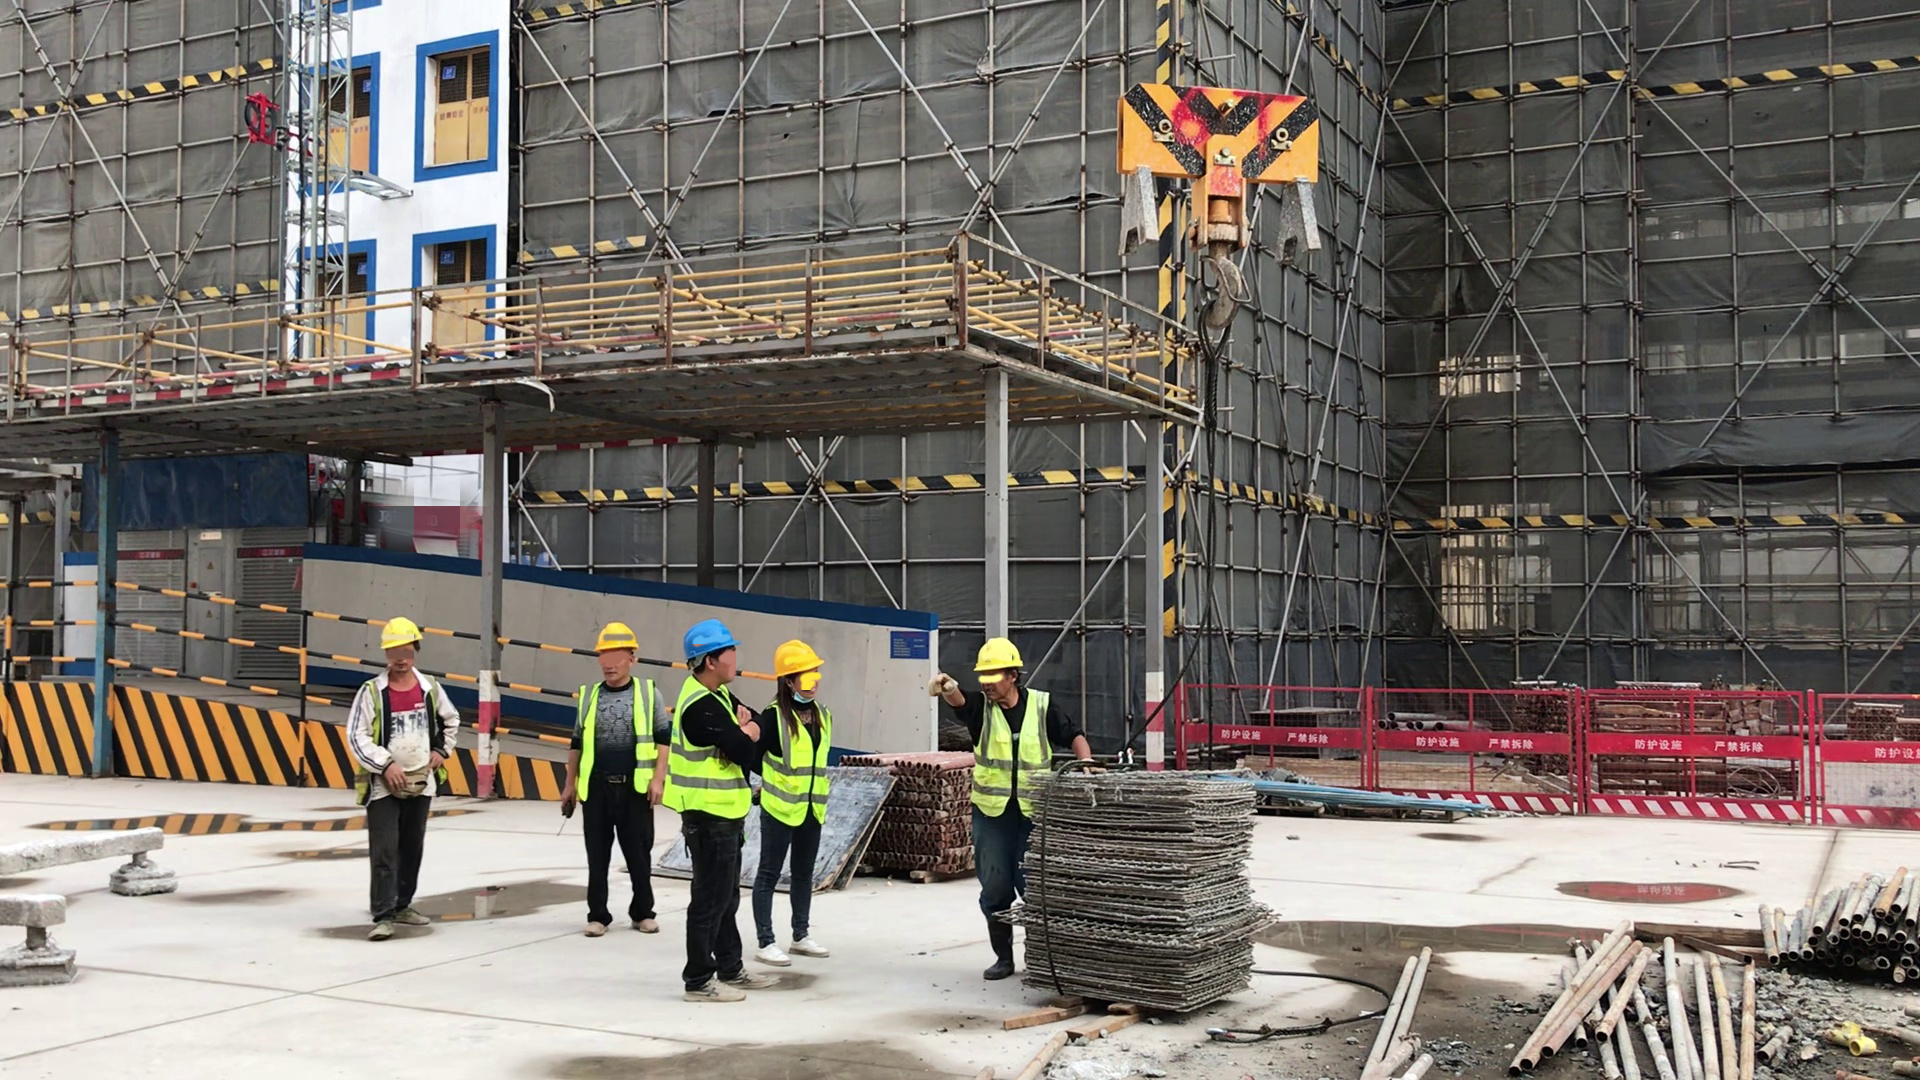fence: (1, 551, 704, 801), (1164, 666, 1920, 853)
helmet: (965, 632, 1039, 680), (590, 607, 641, 659), (779, 635, 832, 684), (376, 612, 429, 654), (684, 622, 740, 657)
hook: (1114, 72, 1330, 330)
person: (918, 628, 1085, 979), (342, 613, 476, 945), (550, 611, 681, 929), (664, 623, 763, 1012), (765, 645, 842, 979)
scaffold: (1508, 925, 1762, 1080), (1757, 856, 1920, 975), (846, 736, 975, 884)
vest: (564, 666, 660, 813), (363, 672, 455, 804), (677, 668, 751, 827), (967, 686, 1054, 822), (757, 694, 835, 834)
